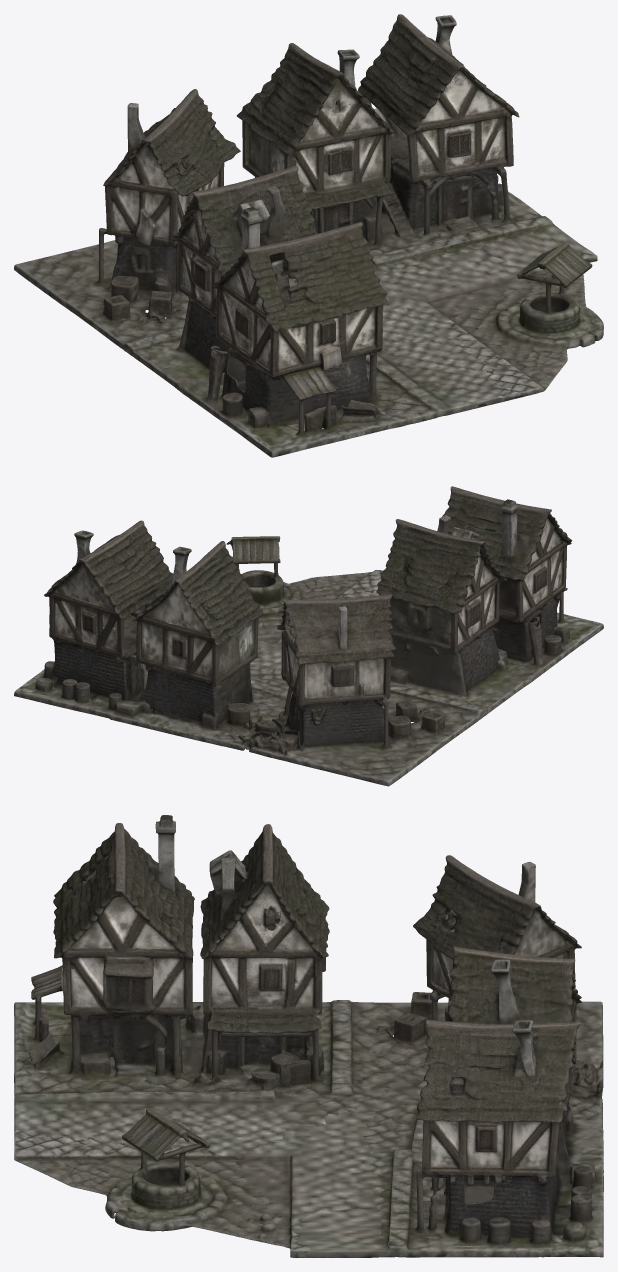
File: umschlagplatz.glb
3 views of the same model, one above another, from view 1: azimuth 30°, elevation 25°; view 2: azimuth 150°, elevation 25°; view 3: azimuth 270°, elevation 25° (orthographic). The views are drawn at different scales.
Size of the model in its own units: 1.9 by 0.7898 by 1.89.
Materials: 1 (1 with a texture image).
